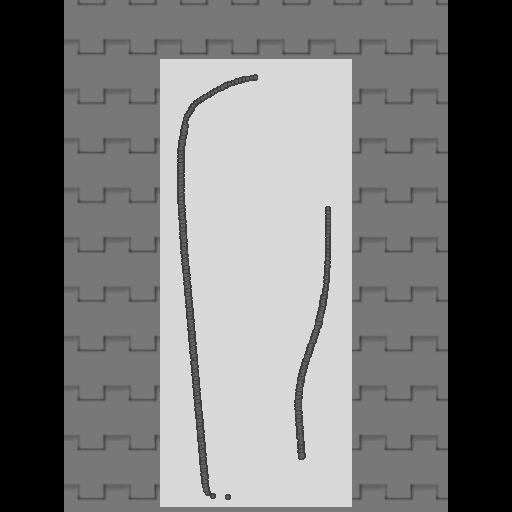Defect: (256, 65, 344, 207)
